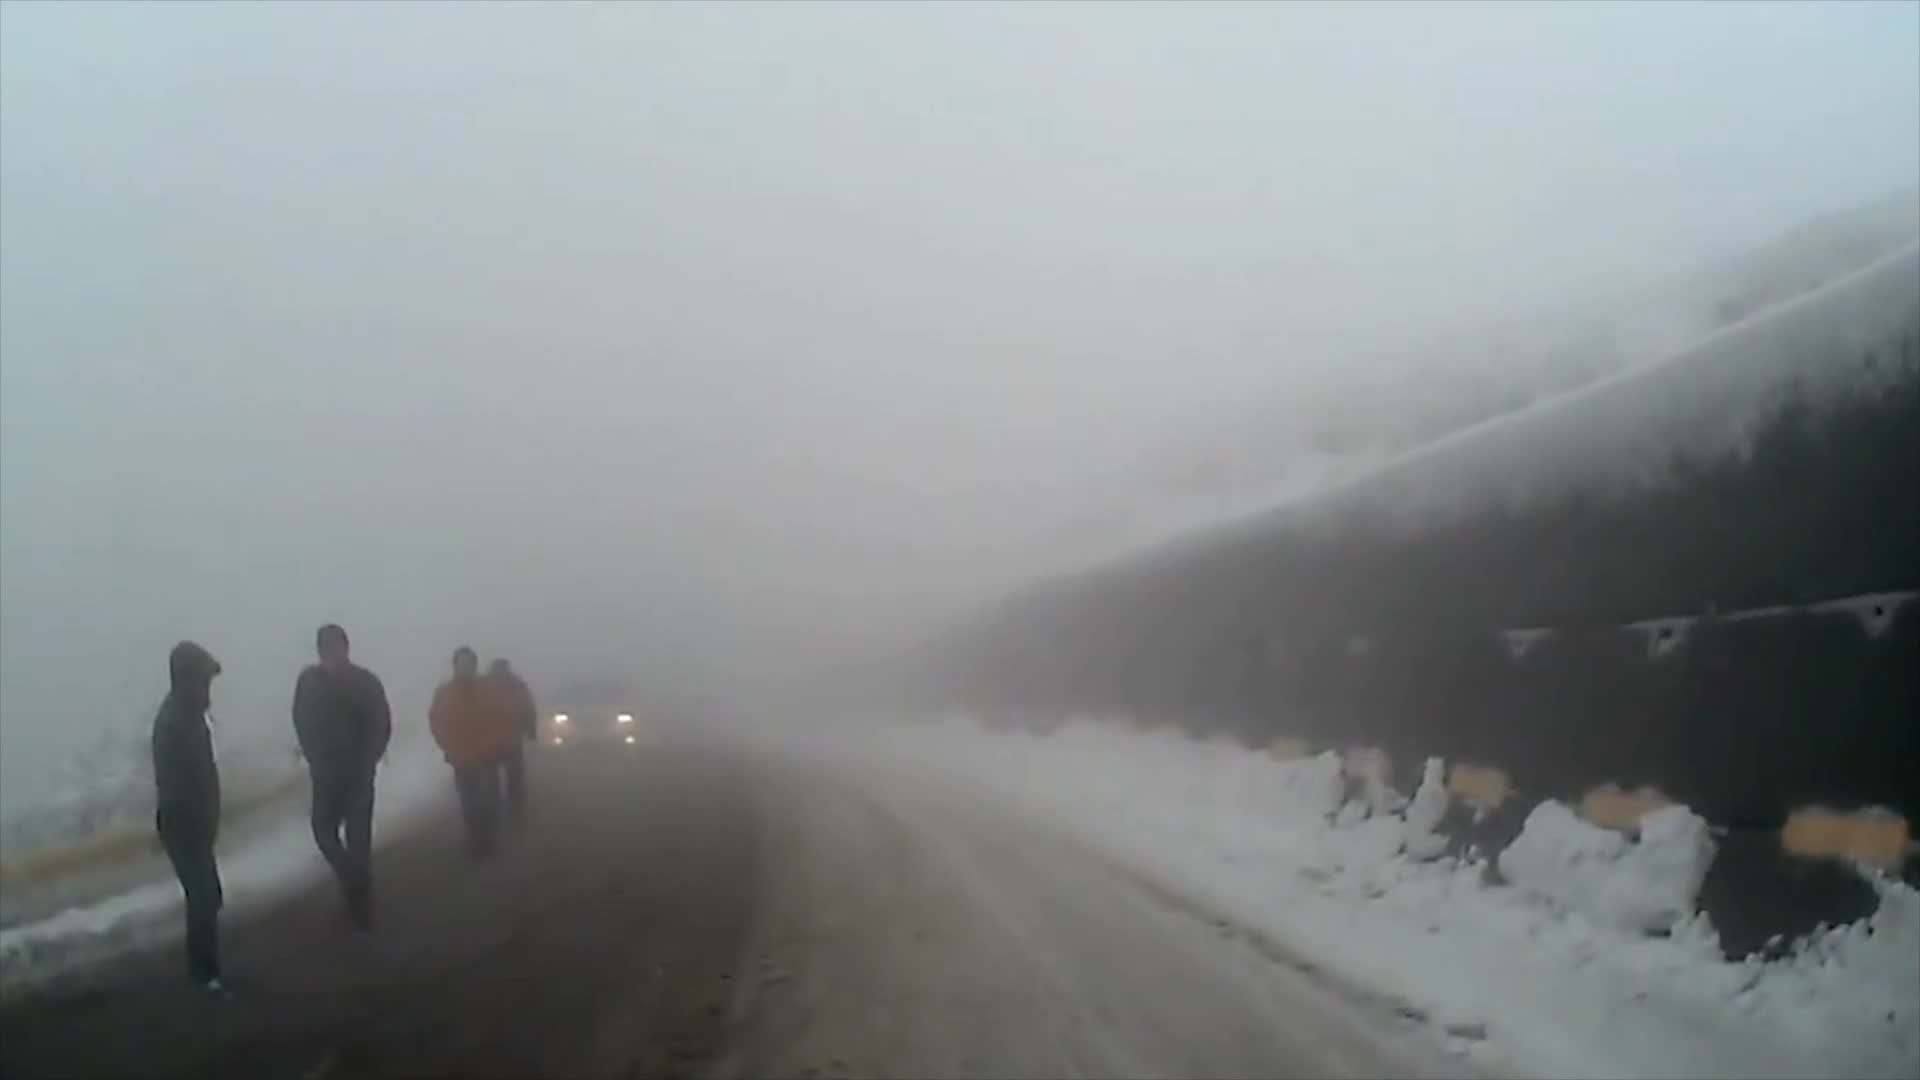pedestrian: (291, 625, 397, 934), (148, 642, 236, 996), (428, 647, 523, 865)
vehicle: (546, 678, 642, 765)
